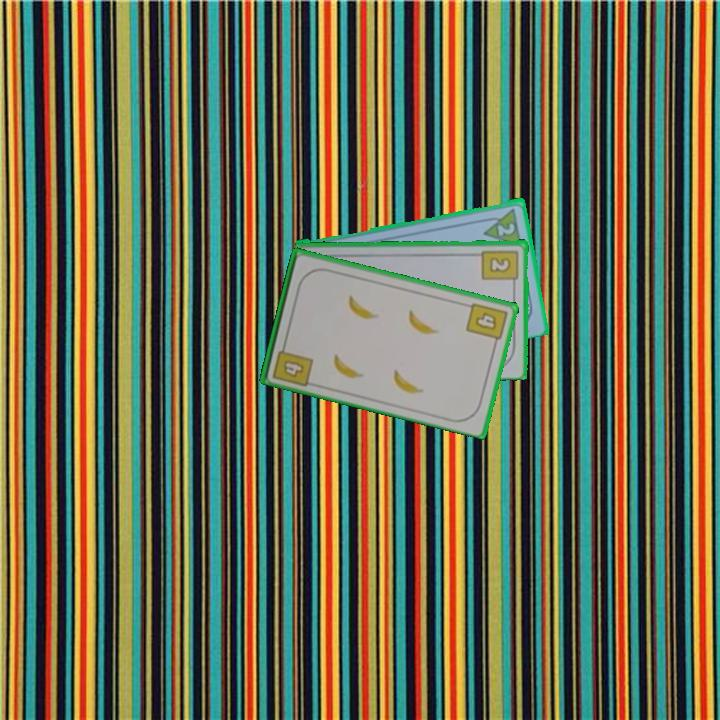2b: (479, 246, 521, 288)
2p: (494, 219, 518, 238)
4b: (269, 338, 316, 389), (462, 299, 510, 348)
